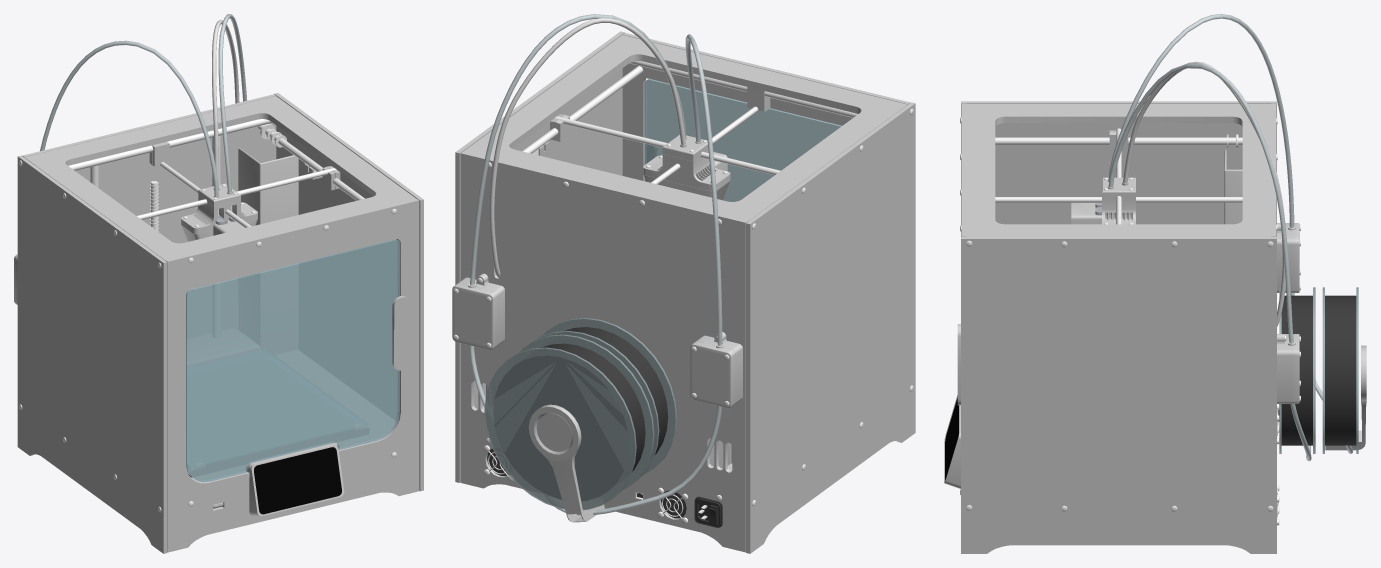
Rendered from Ultimaker S3 Internal Test 2.fbx.
3 views of the same model, side by side, from view 1: azimuth 30°, elevation 25°; view 2: azimuth 150°, elevation 25°; view 3: azimuth 270°, elevation 25° (orthographic). The views are drawn at different scales.
Visible parts, largest first — view 1: RightPanel, GlassPanel, FrontPanel, LeftPanel, TopBase, BackPanel, BackSupport, DisplayPanel, BottomBase, DoubleCylinder.001, Cube, Tube1.001 (+7 smaller); view 2: BackPanel, RightPanel, Circle.008, TopBase, GlassPanel, LeftPanel, Circle.010, FrontPanel, Circle.017, FeederR2, FeederL2, Cube.005 (+11 smaller); view 3: LeftPanel, RightPanel, TopBase, Circle.008, Circle.010, Tube2, Tube1.001, DoubleCylinder.001, Cube.005, Cube.011, DisplayPanel, FeederL1 (+10 smaller).
Boxes of the visible parts, bbox=[...] form: RightPanel: bbox=[17, 155, 167, 553]; GlassPanel: bbox=[186, 239, 410, 482]; FrontPanel: bbox=[165, 199, 419, 552]; LeftPanel: bbox=[274, 93, 423, 491]; TopBase: bbox=[25, 96, 416, 260]; BackPanel: bbox=[22, 94, 276, 338]; BackSupport: bbox=[238, 147, 298, 354]; DisplayPanel: bbox=[247, 443, 344, 516]; BottomBase: bbox=[190, 350, 395, 481]; DoubleCylinder.001: bbox=[69, 119, 364, 200]; Cube: bbox=[186, 328, 259, 367]; Tube1.001: bbox=[40, 40, 218, 195]; BackPanel: bbox=[460, 151, 747, 552]; RightPanel: bbox=[746, 102, 915, 553]; Circle.008: bbox=[484, 334, 654, 509]; TopBase: bbox=[464, 35, 907, 221]; GlassPanel: bbox=[644, 78, 841, 201]; LeftPanel: bbox=[455, 31, 624, 482]; Circle.010: bbox=[528, 318, 676, 482]; FrontPanel: bbox=[622, 33, 910, 181]; Circle.017: bbox=[528, 404, 604, 522]; FeederR2: bbox=[690, 341, 735, 408]; FeederL2: bbox=[452, 283, 497, 350]; Cube.005: bbox=[489, 18, 685, 277]; LeftPanel: bbox=[961, 237, 1276, 553]; RightPanel: bbox=[961, 101, 1276, 236]; TopBase: bbox=[966, 104, 1271, 236]; Circle.008: bbox=[1322, 287, 1358, 453]; Circle.010: bbox=[1279, 287, 1315, 453]; Tube2: bbox=[1108, 63, 1311, 460]; Tube1.001: bbox=[1108, 14, 1294, 227]; DoubleCylinder.001: bbox=[995, 134, 1242, 148]; Cube.005: bbox=[1123, 61, 1285, 326]; Cube.011: bbox=[995, 197, 1242, 202]; DisplayPanel: bbox=[944, 395, 960, 488]; FeederL1: bbox=[1277, 334, 1291, 403].
Size of what is drawn, in the model's own units: 41.7 by 62.16 by 53.7.
